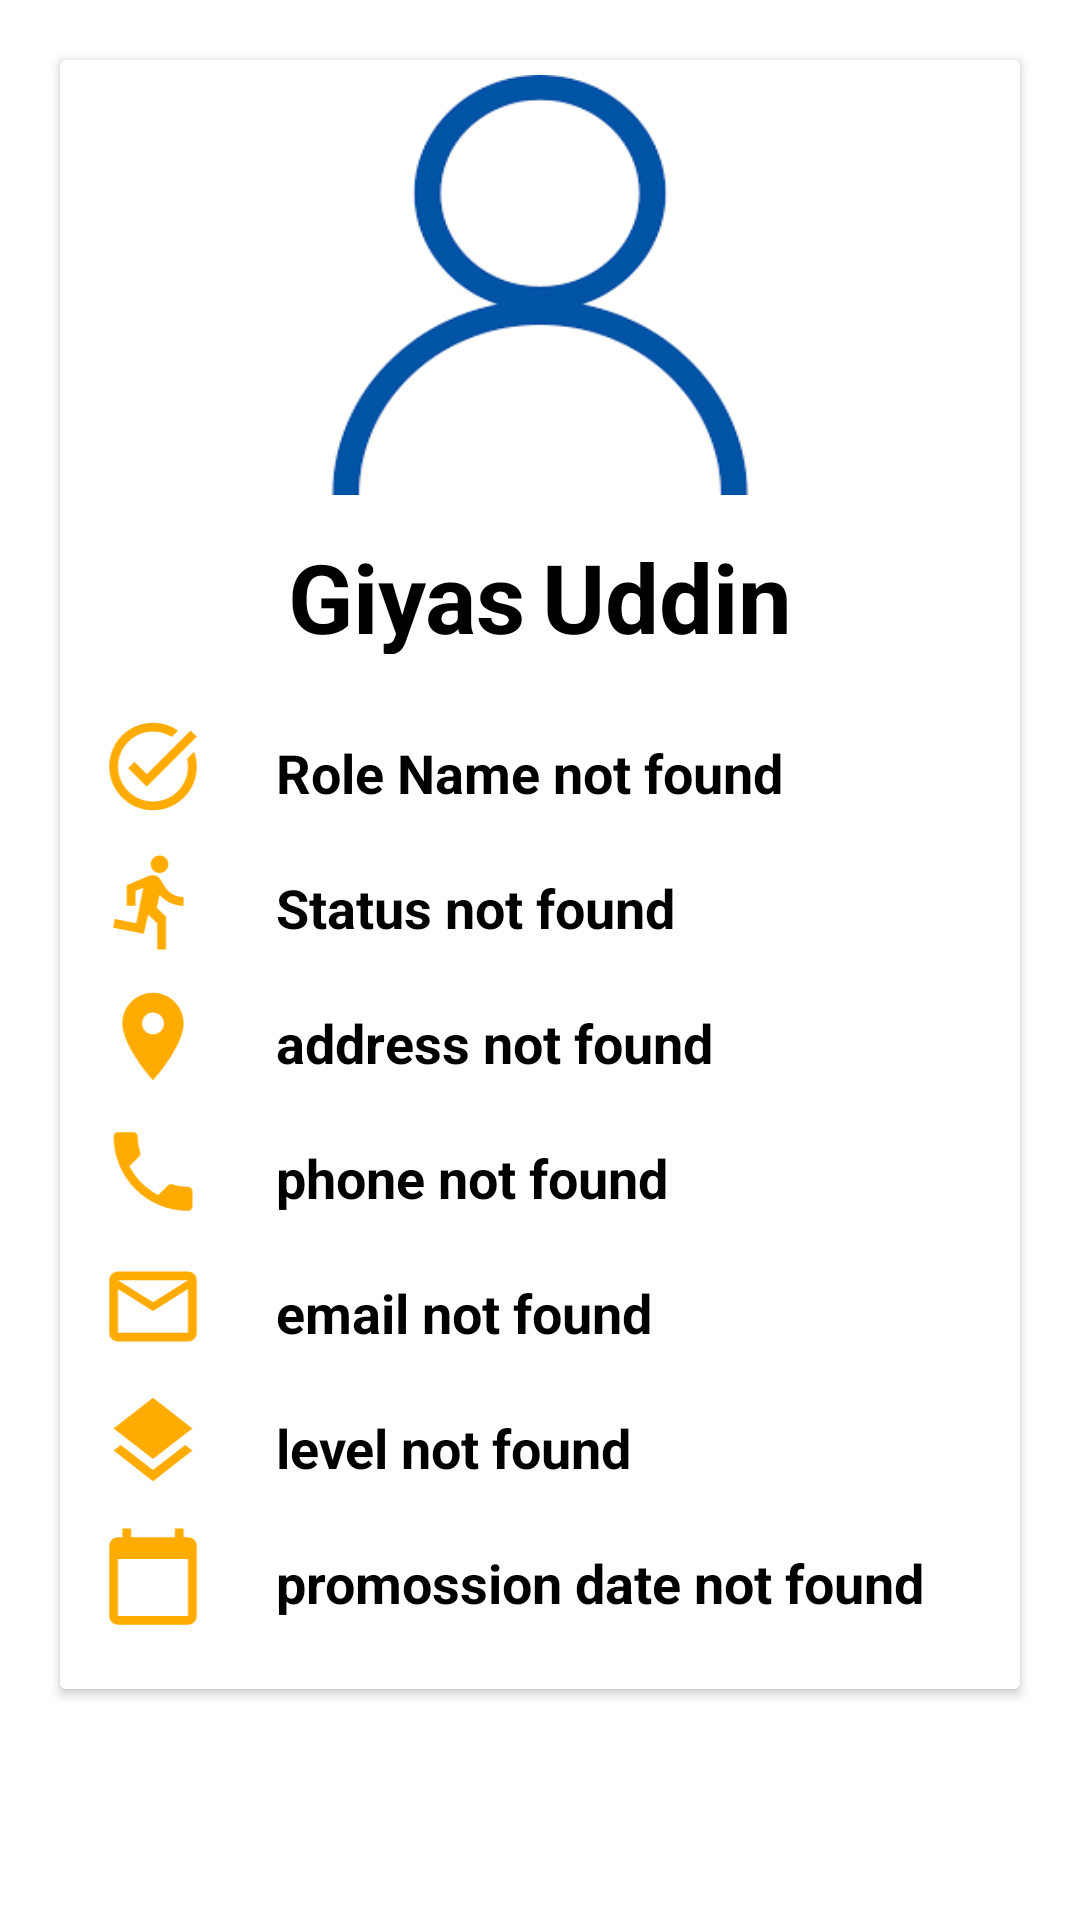

Icon bounding boxes for this 1080 × 1920 phone screenshot, format (x1, y1, x2, y2):
calendar today: (108, 1528, 198, 1625)
layers: (113, 1398, 193, 1481)
location on: (122, 992, 184, 1080)
run: (113, 855, 184, 950)
task: (108, 722, 198, 811)
